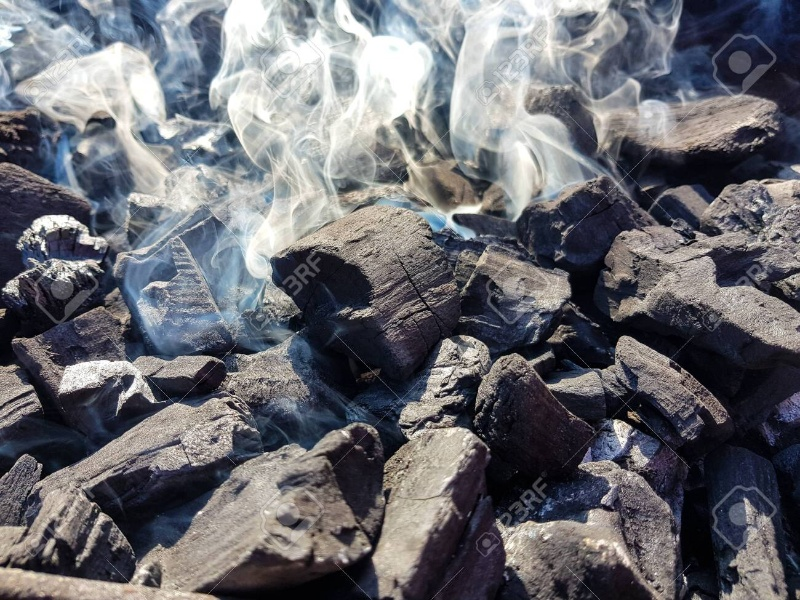smoke: (228, 12, 590, 198)
